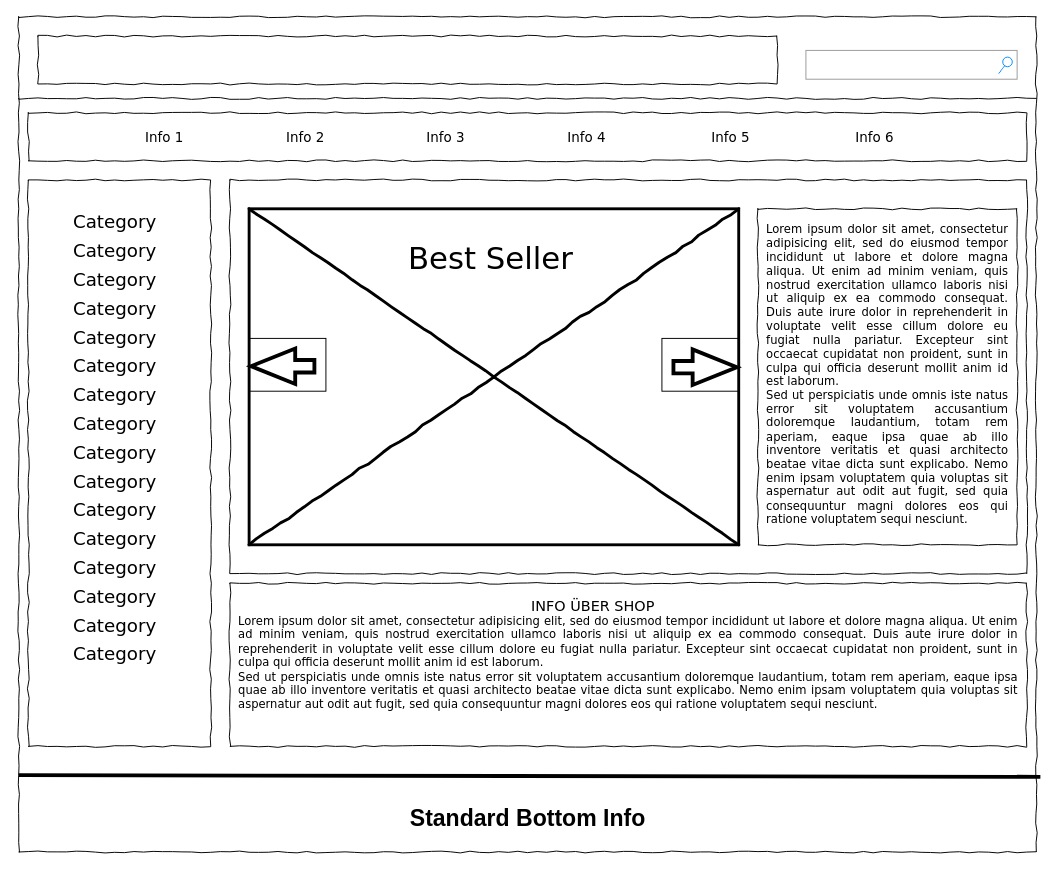
Some shapes in this 1059 by 878 pixel diagram are drawn without their labels. The centre of each missing label's shape, as x and y in pixels:
LOGO: the point at 407,59
Search: the point at 911,64
